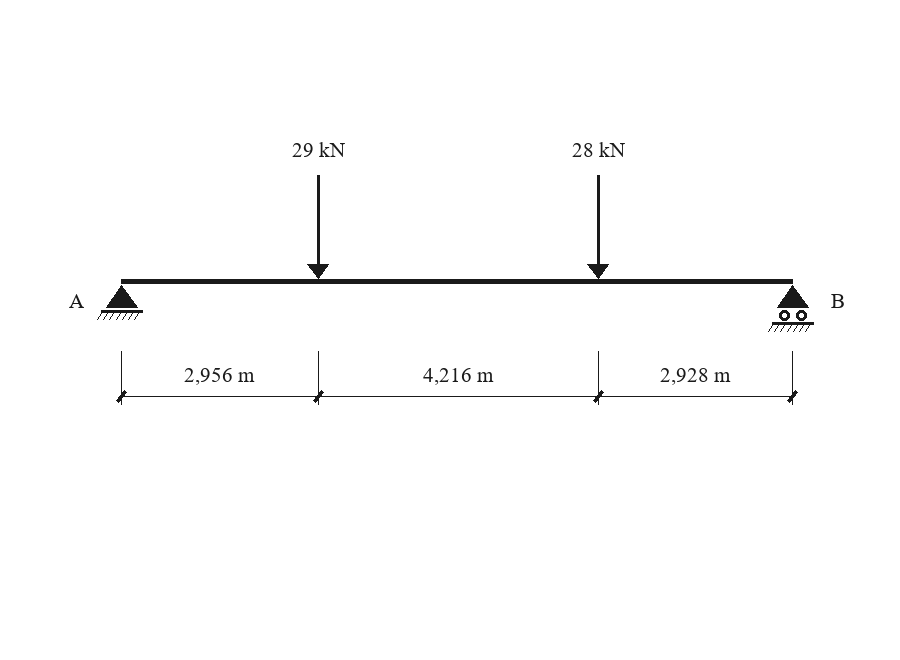pin_support: (97, 285, 143, 320)
point_load: (307, 175, 329, 279), (587, 175, 609, 279)
roller_support: (768, 285, 814, 332)
